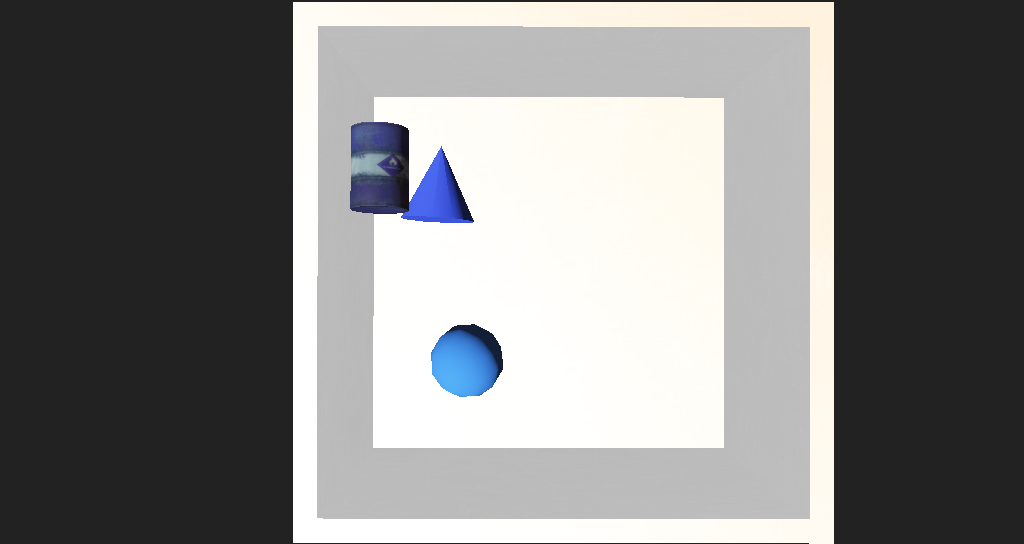cone: (327, 177, 387, 234)
cylinder: (374, 188, 448, 241)
sphere: (408, 303, 468, 346)
